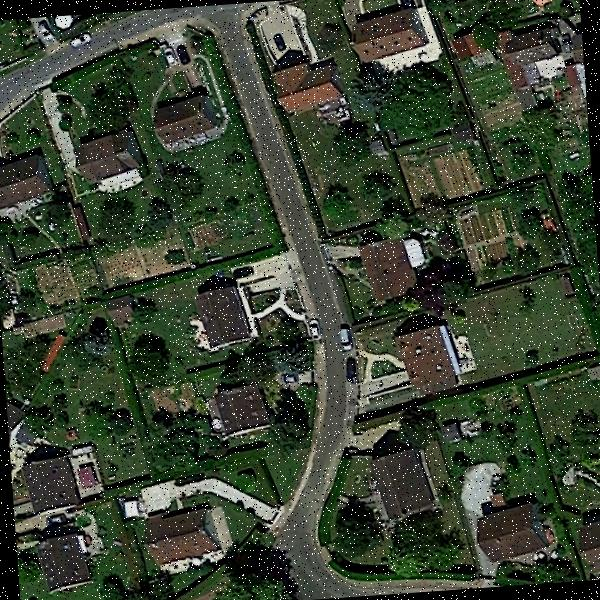Buildings: (457, 27, 587, 112), (471, 508, 551, 568), (270, 60, 342, 116), (402, 324, 466, 387), (356, 241, 428, 296), (144, 512, 216, 565), (155, 88, 222, 142), (74, 135, 141, 185), (193, 290, 256, 341), (353, 10, 424, 54), (0, 160, 51, 215), (381, 456, 431, 512), (206, 393, 270, 430), (38, 544, 86, 588), (26, 461, 70, 507), (573, 516, 600, 577)
